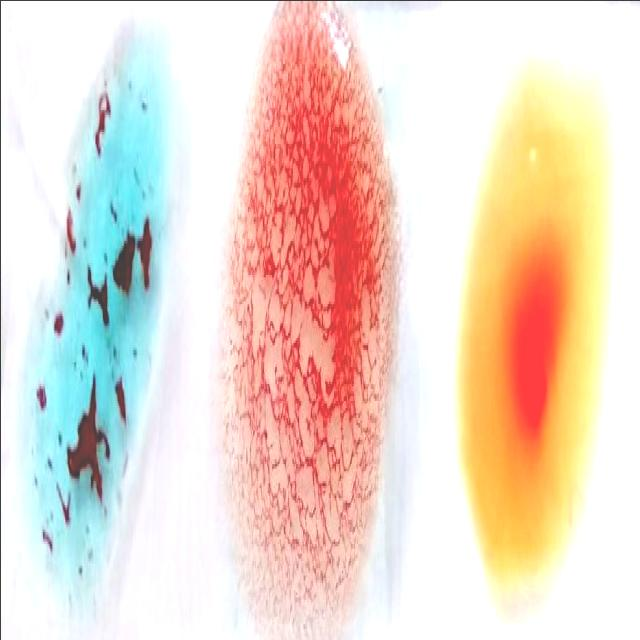A: (27, 27, 172, 622)
D: (222, 18, 393, 631)
